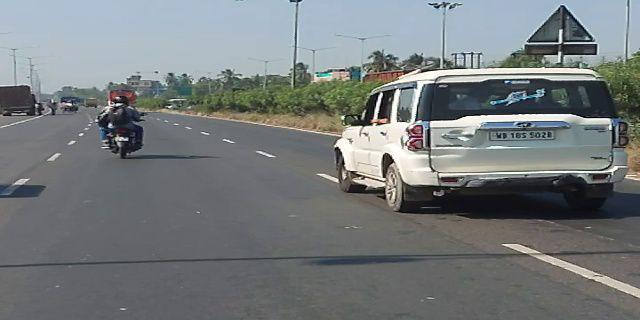Car: (324, 63, 631, 220)
Motorbike: (92, 92, 150, 162)
